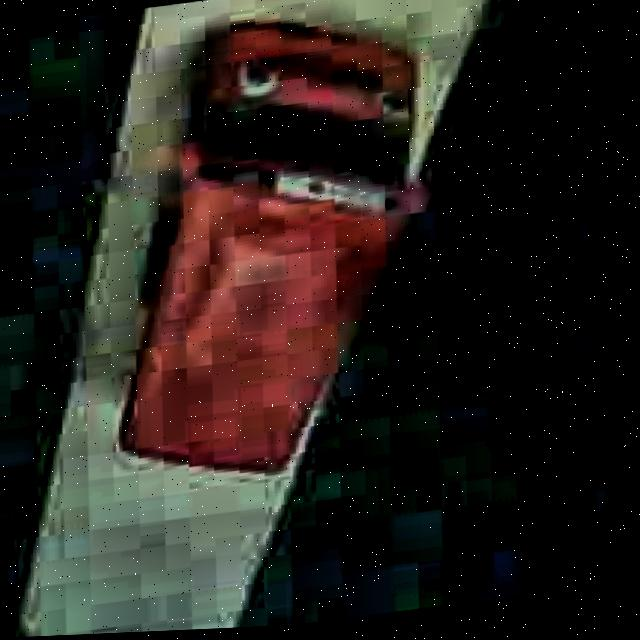bus: (73, 0, 462, 498)
